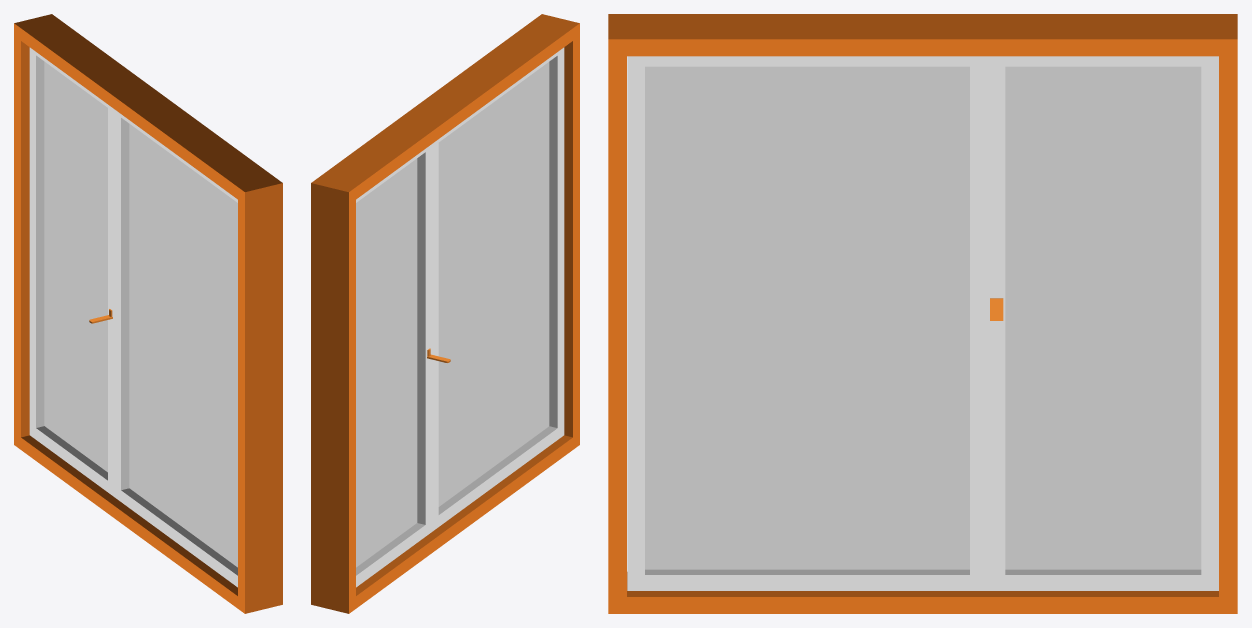
Rendered from Window 1.fbx.
3 renders of one model, left to right at view 1: azimuth 30°, elevation 25°; view 2: azimuth 150°, elevation 25°; view 3: azimuth 270°, elevation 25°, orthographic. The views are drawn at different scales.
Parts seen in each view (by area): view 1: Node 1, Node 0, Node 2; view 2: Node 1, Node 0, Node 2; view 3: Node 1, Node 2, Node 0.
Part boxes in pixels (left/top/right/bottom): Node 1: left=114, top=110, right=237, bottom=587; Node 0: left=14, top=14, right=282, bottom=613; Node 2: left=29, top=47, right=114, bottom=496; Node 1: left=432, top=47, right=564, bottom=531; Node 0: left=311, top=14, right=579, bottom=613; Node 2: left=356, top=144, right=431, bottom=587; Node 1: left=627, top=56, right=987, bottom=590; Node 2: left=987, top=56, right=1218, bottom=590; Node 0: left=608, top=14, right=1237, bottom=613.
Size of the model in its own units: 1.35 by 1.36 by 0.169.
